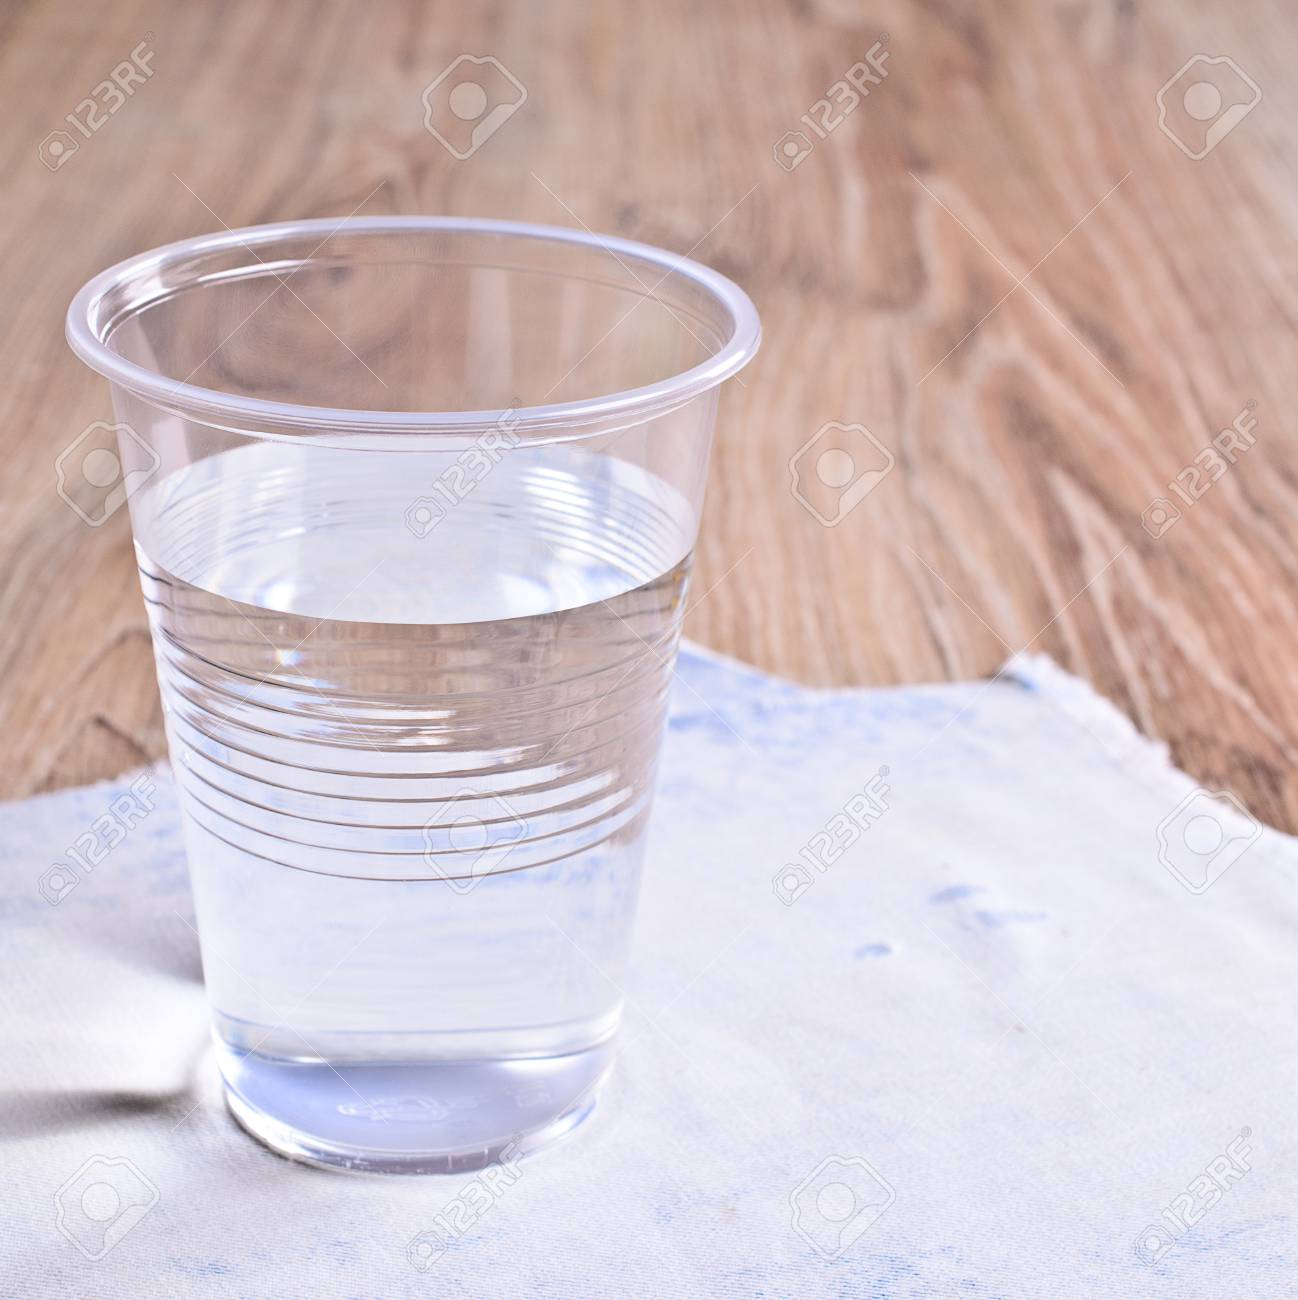plastic_glass: (55, 203, 775, 1194)
